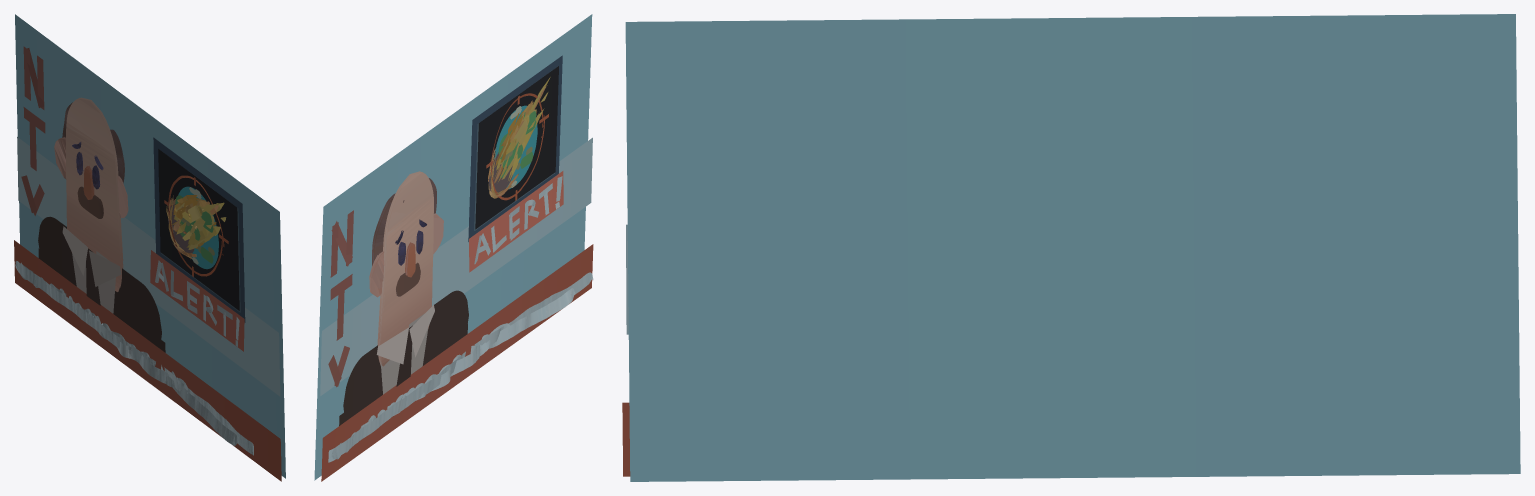
File: Tvshow.fbx
3 views of the same model, side by side, from view 1: azimuth 30°, elevation 25°; view 2: azimuth 150°, elevation 25°; view 3: azimuth 270°, elevation 25° (orthographic). The views are drawn at different scales.
Visible parts, largest first — view 1: tvshow; view 2: tvshow; view 3: tvshow.
Boxes of the visible parts, x1,y1,x2,y2 form: tvshow: [14, 14, 285, 481]; tvshow: [314, 14, 593, 481]; tvshow: [622, 14, 1520, 481].
Bounding box in the file's own units: 0.0733 × 0.8655 × 1.53.
